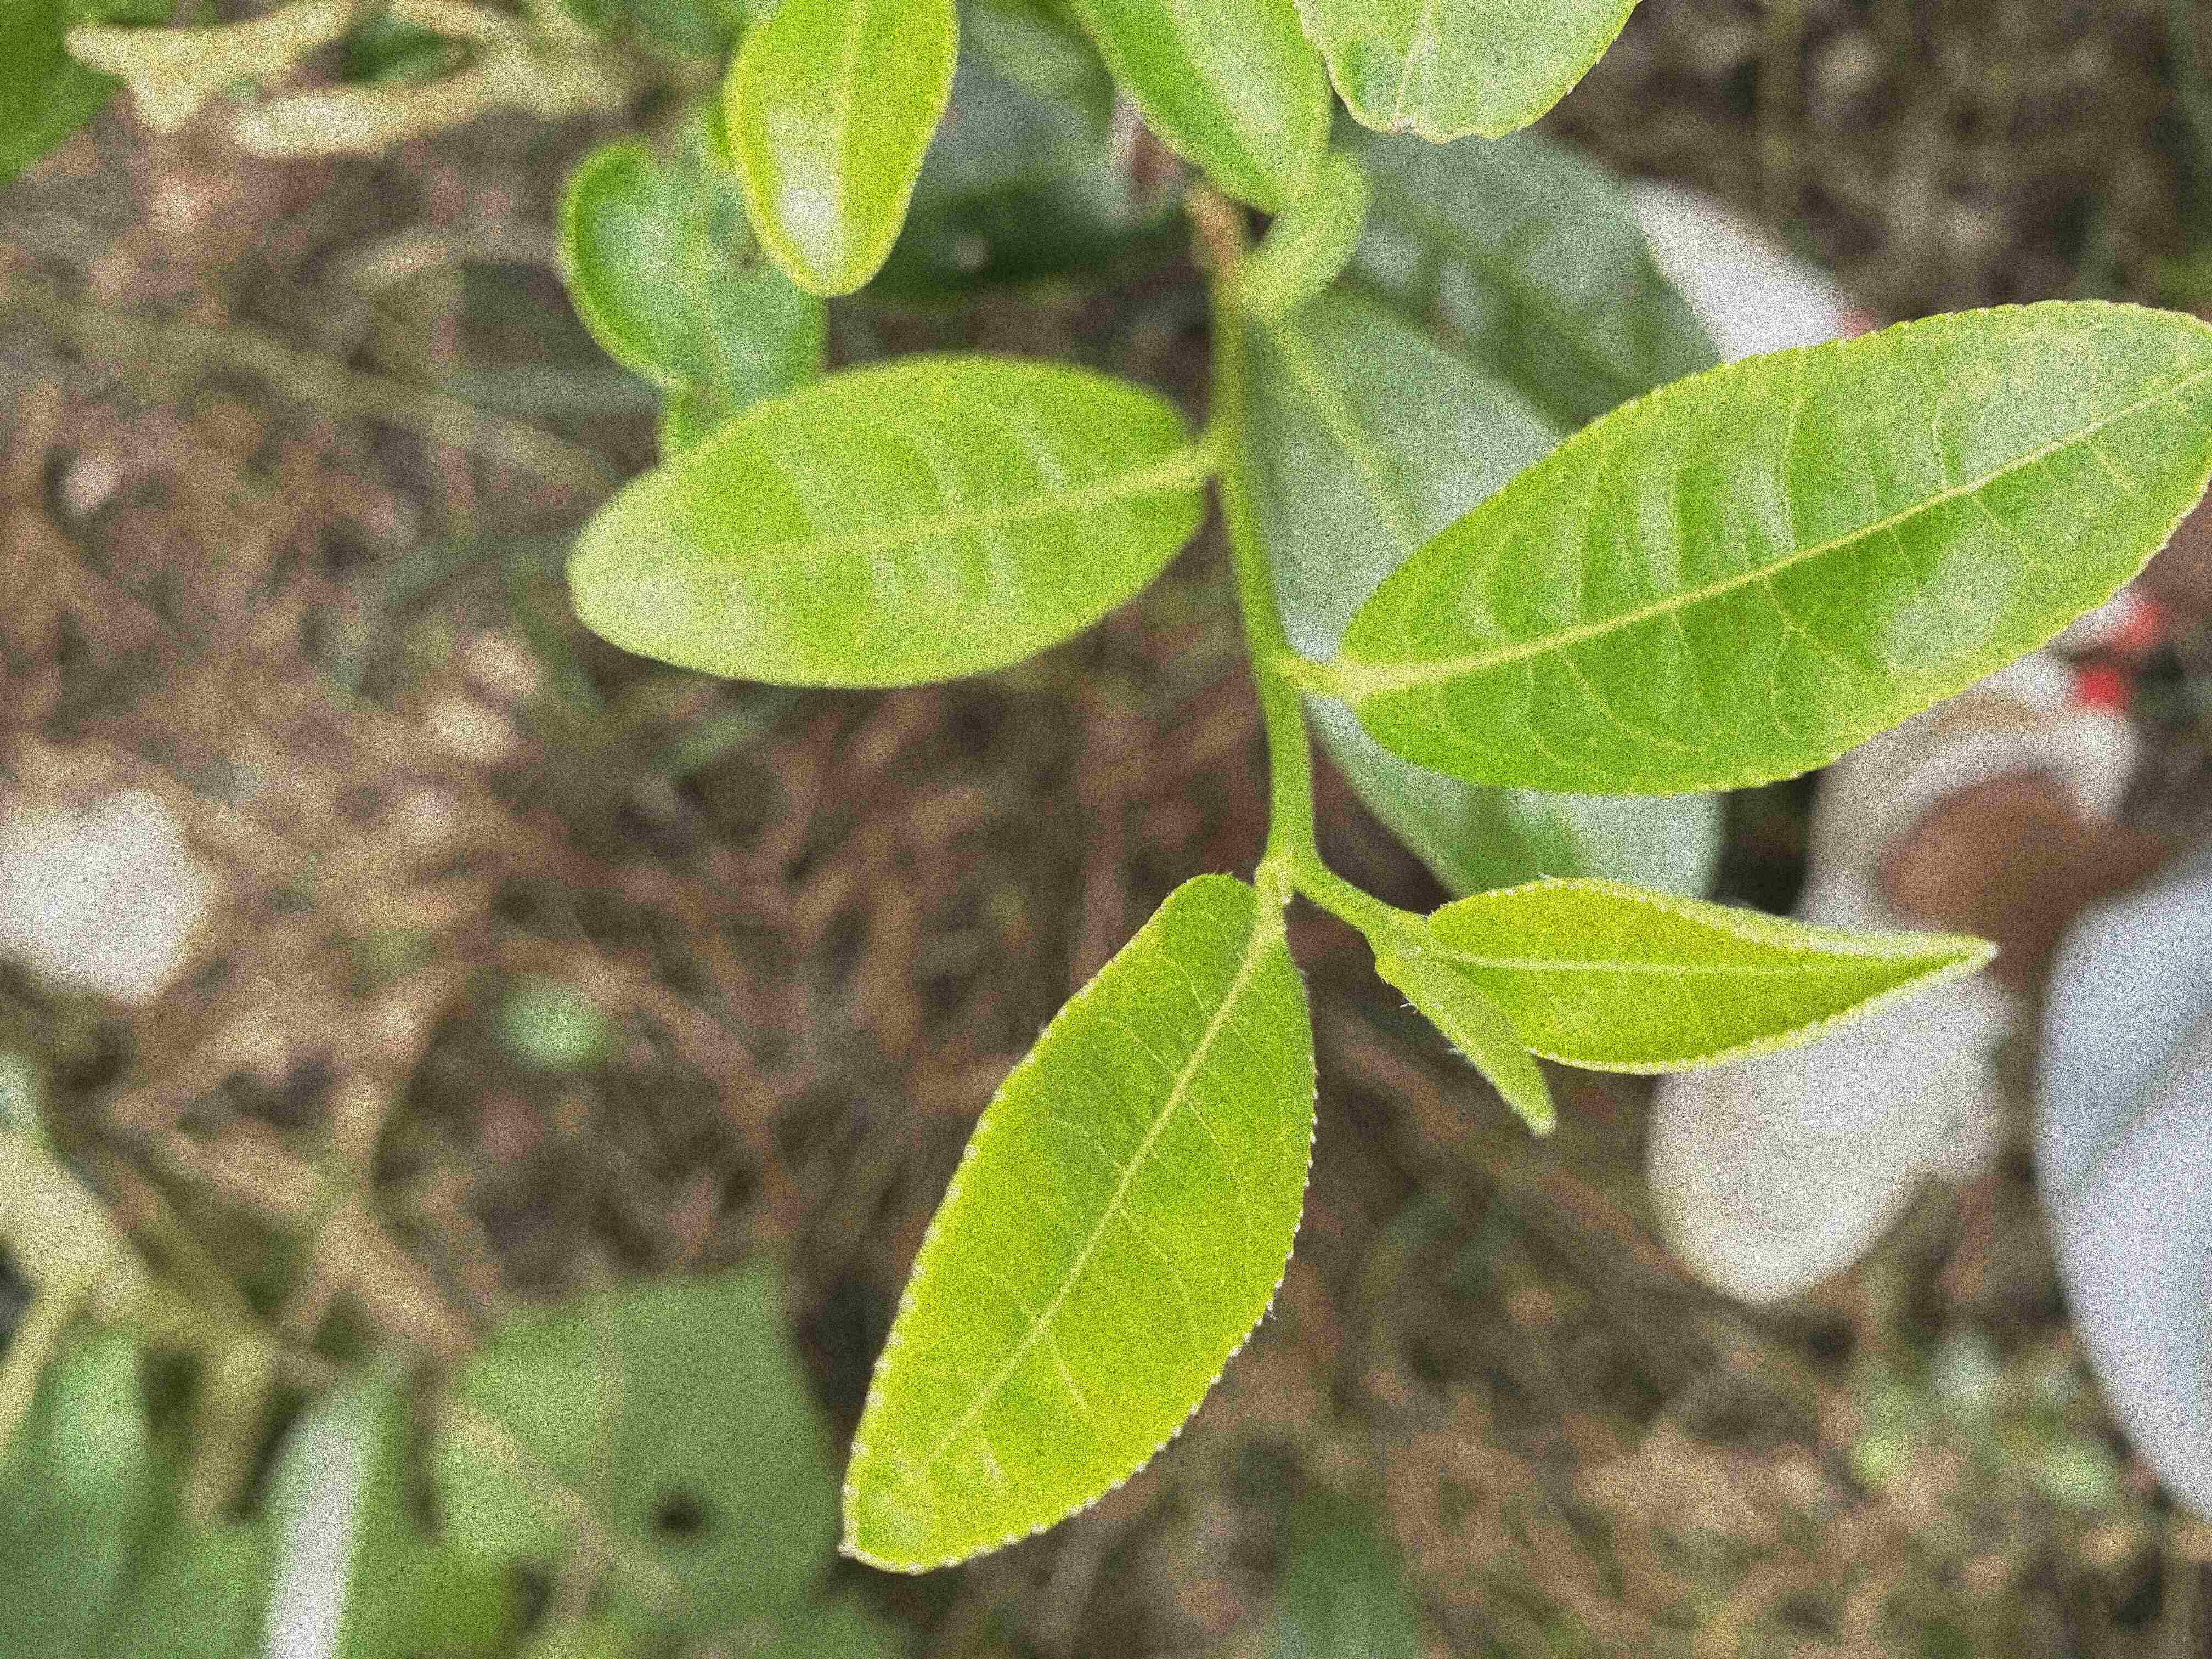healthy: (1339, 295, 2212, 798), (838, 871, 1324, 1579), (570, 350, 1212, 690), (1426, 873, 2003, 1077)
